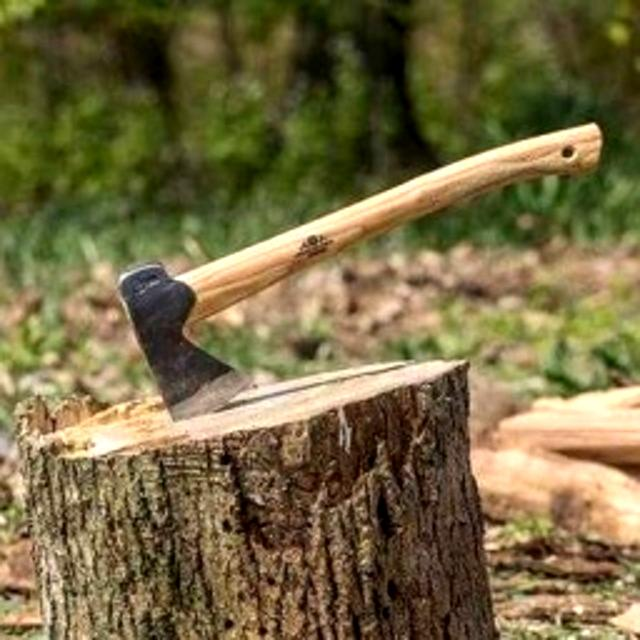ax: (114, 117, 612, 424)
